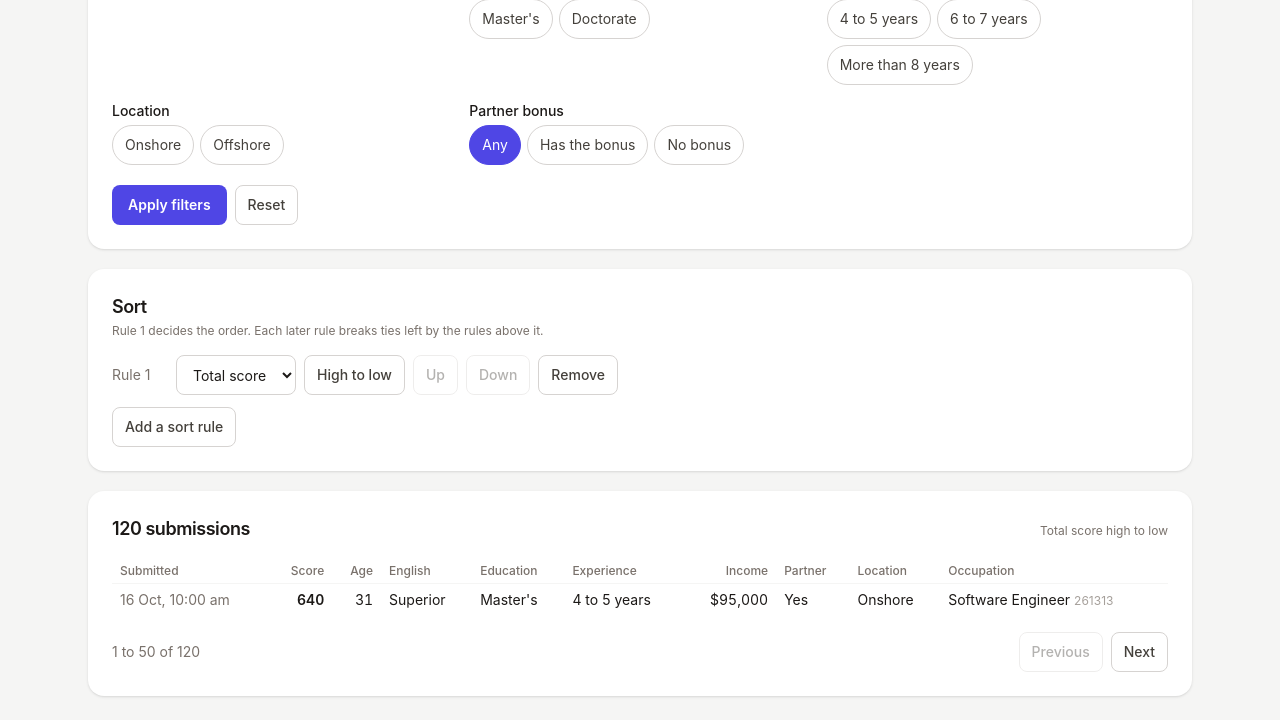
submissions page › pages through the results
(page scrolled)
Expected: the heading "120 submissions" is shown, x1=112 y1=515 x2=250 y2=543
Expected: the button "Previous" is disabled, x1=1019 y1=632 x2=1103 y2=672
Click the button "Next".
click(1139, 652)  # box x1=1111 y1=632 x2=1168 y2=672
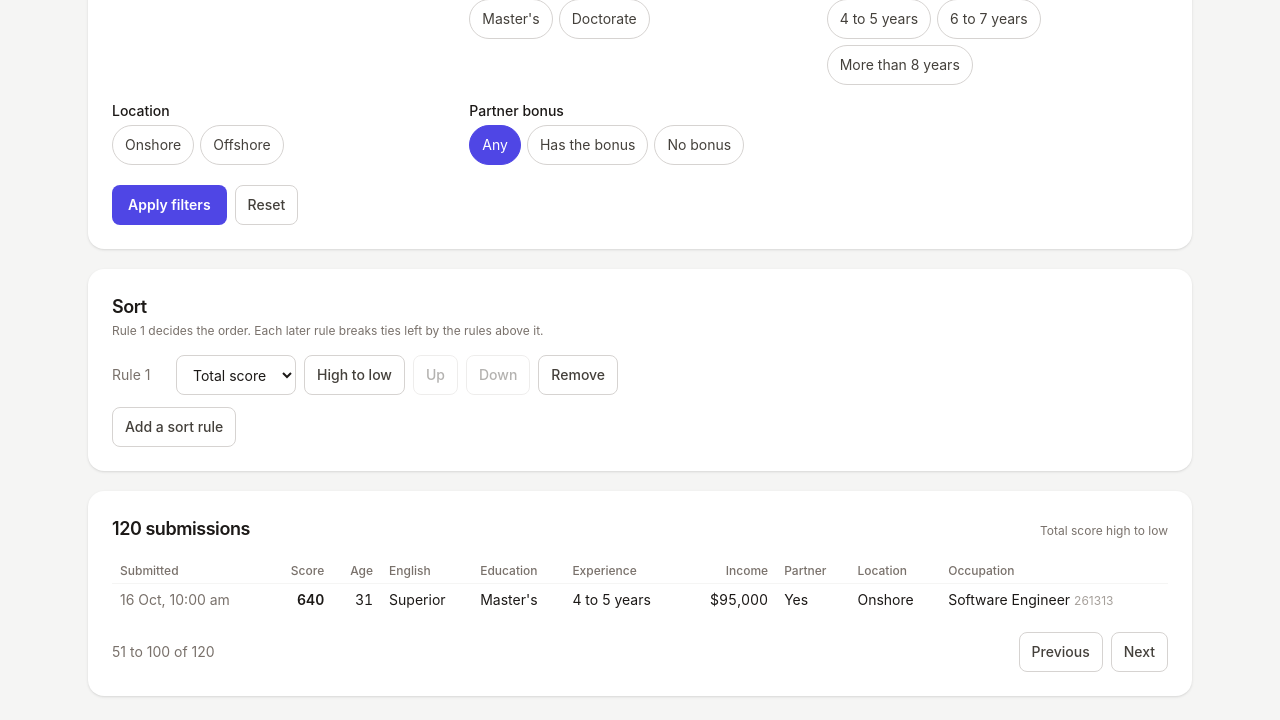
Click the button "Next".
click(1139, 652)  # box x1=1111 y1=632 x2=1168 y2=672
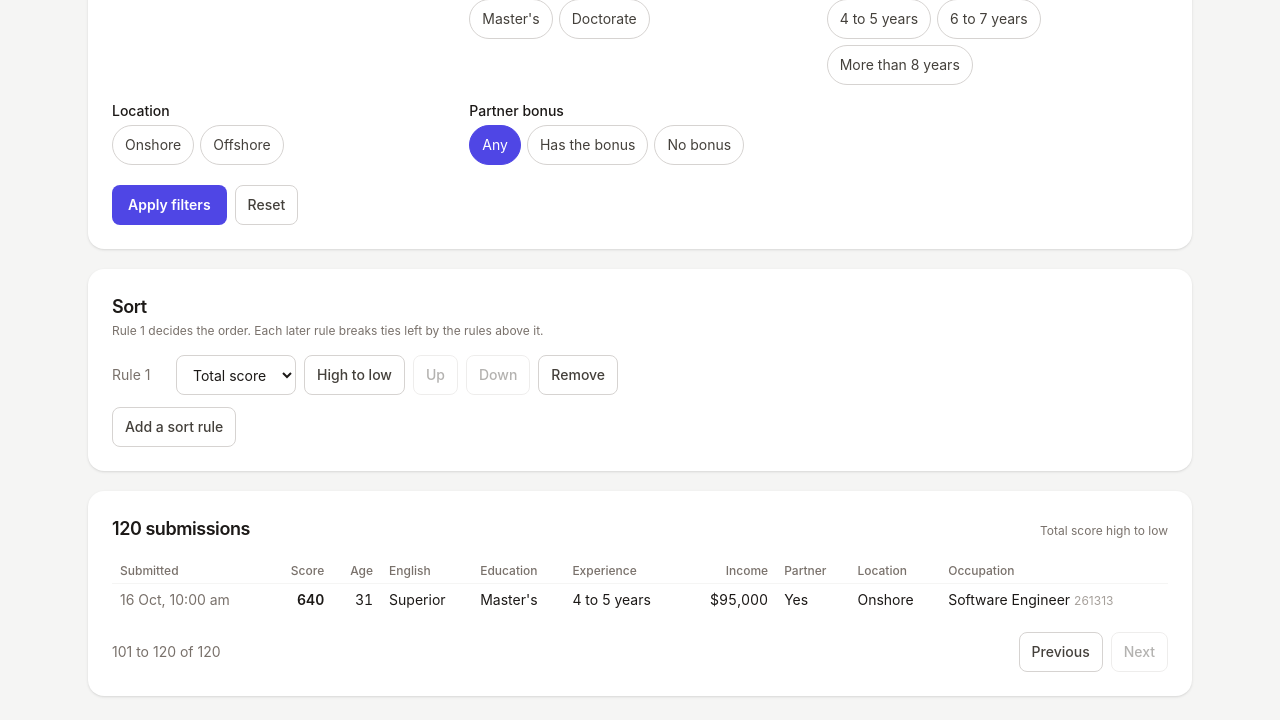
Expected: the button "Next" is disabled, x1=1111 y1=632 x2=1168 y2=672
